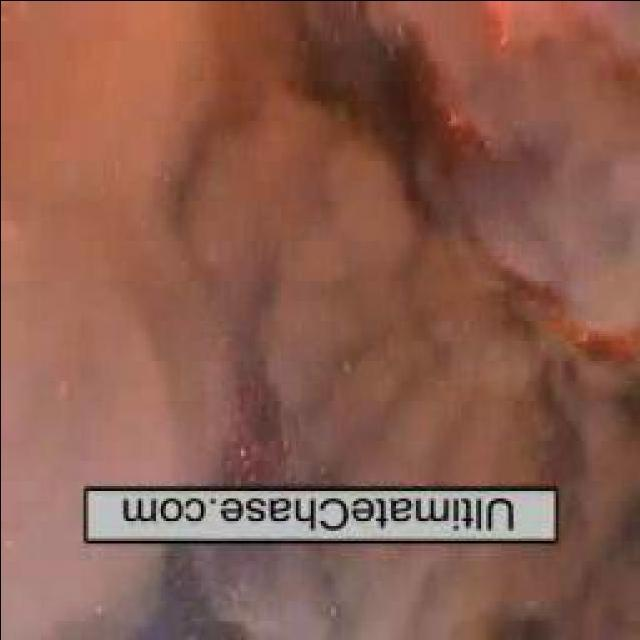Fire: (367, 0, 640, 186), (538, 255, 640, 390)
